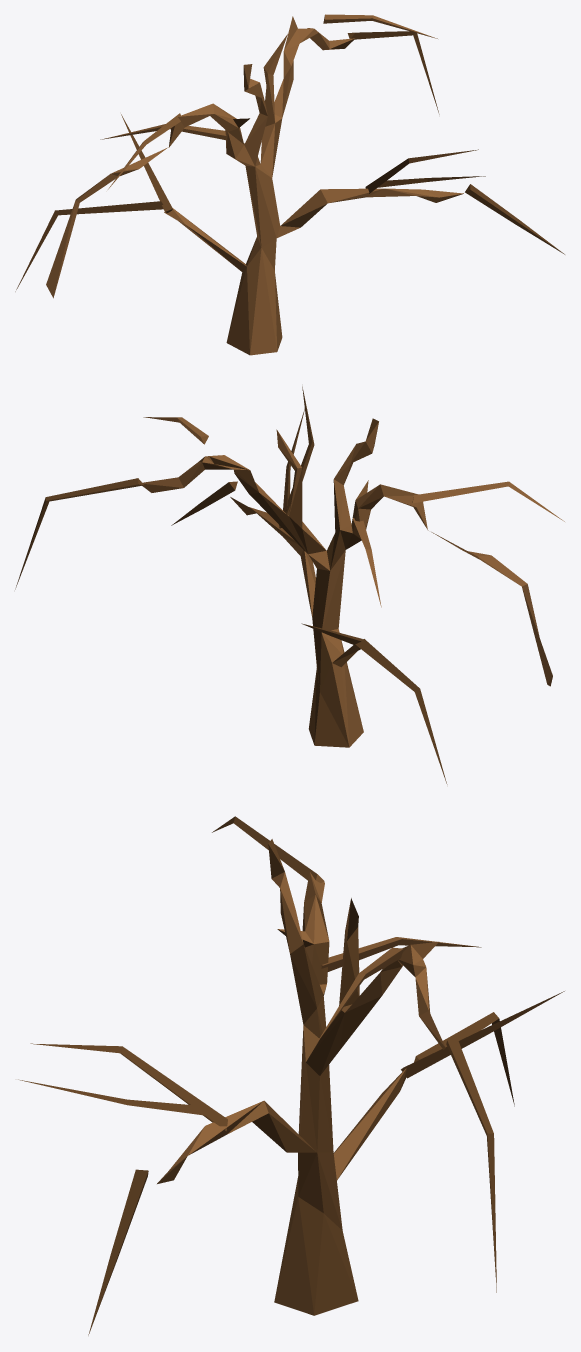
The model's file is elm_2_bare_far.glb.
3 renders of one model, top to bottom at view 1: azimuth 30°, elevation 25°; view 2: azimuth 150°, elevation 25°; view 3: azimuth 270°, elevation 25°, orthographic. The views are drawn at different scales.
Parts seen in each view (by area): view 1: elm_2_bare_far; view 2: elm_2_bare_far; view 3: elm_2_bare_far.
Boxes of the visible parts, left/top/right/bottom form: elm_2_bare_far: left=15, top=14, right=564, bottom=355; elm_2_bare_far: left=15, top=386, right=564, bottom=784; elm_2_bare_far: left=18, top=816, right=564, bottom=1335.
Bounding box in the file's own units: 7.93 × 4.94 × 5.64.
